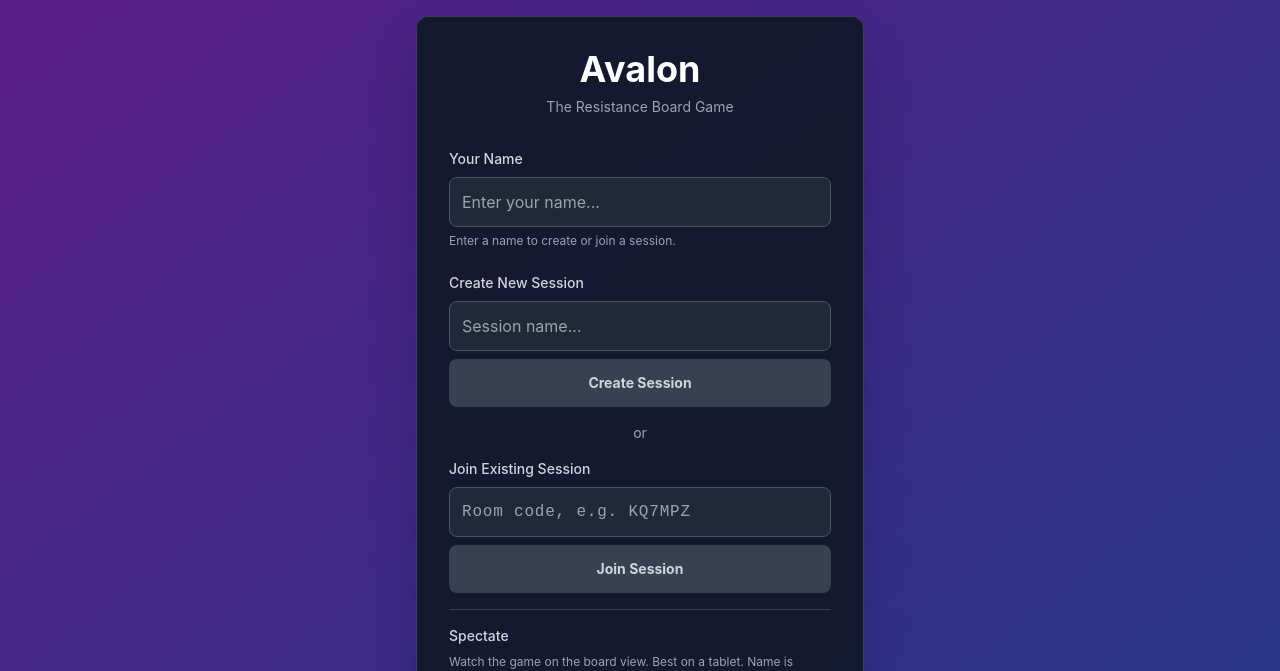
MainMenu › join session flow › displays generic error message when no detail
The image size is (1280, 671).
Step 1. Type "Bob" into the field with placeholder "Enter your name..." → (640, 202), box [449, 177, 831, 227]
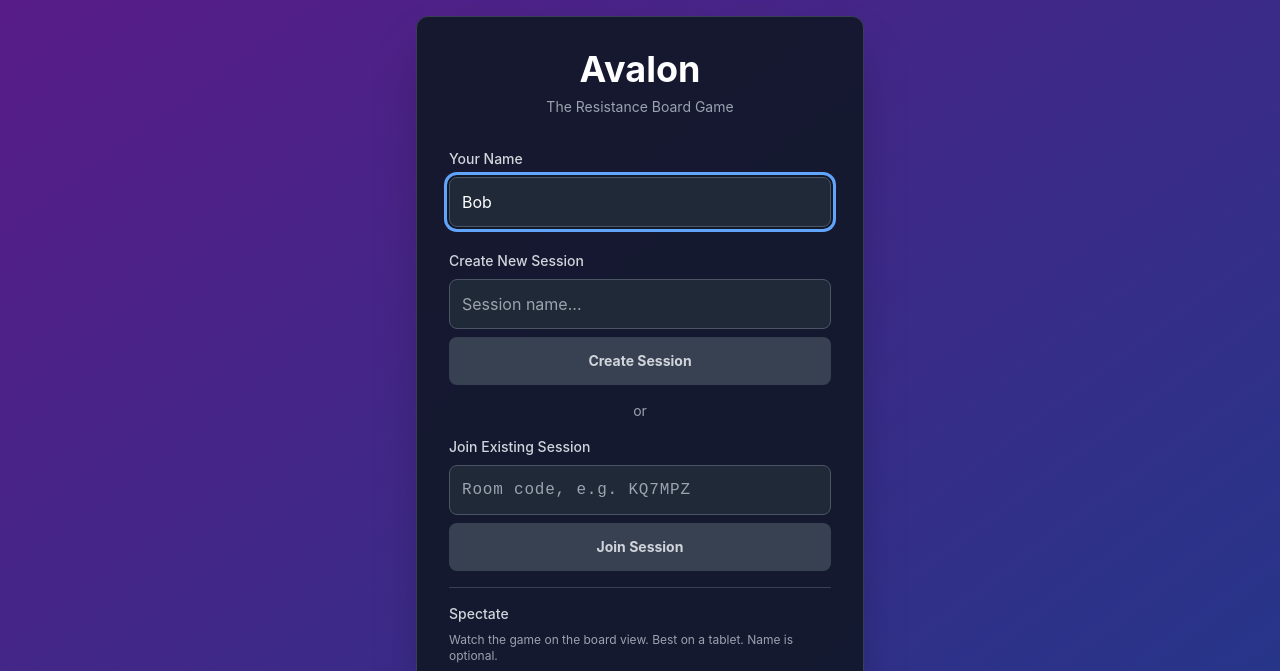
Step 2. Type "some-id" into the field with placeholder "Room code, e.g. KQ7MPZ" → (640, 490), box [449, 465, 831, 515]
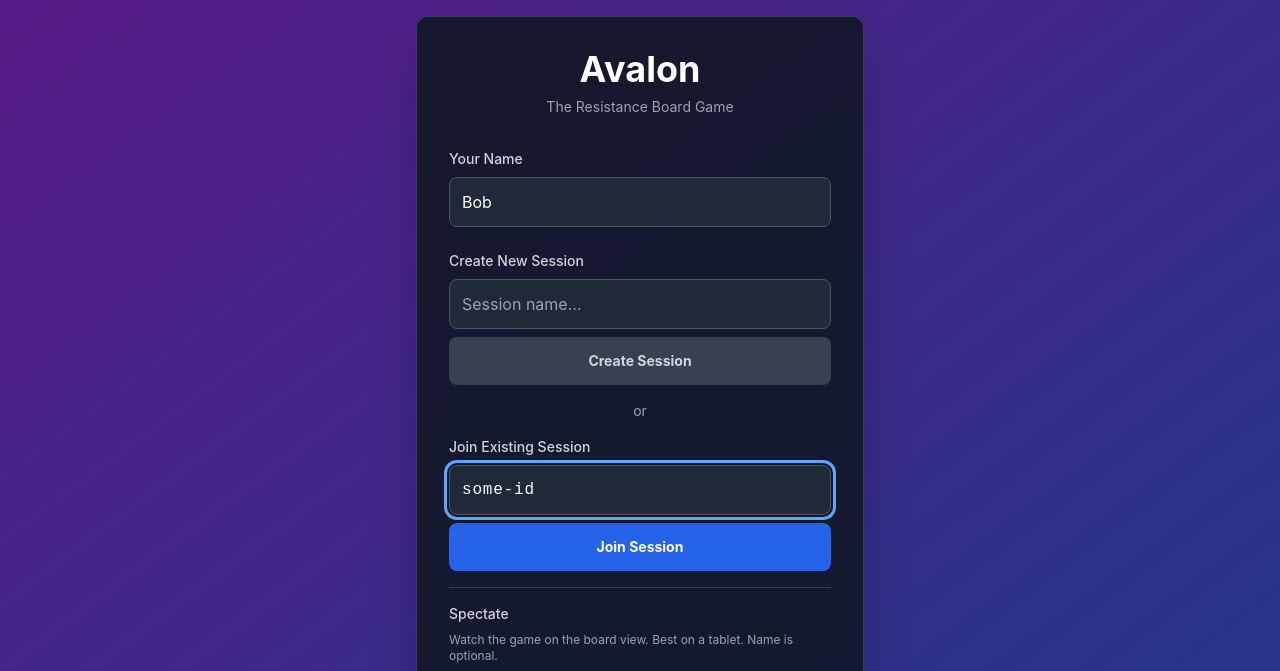
Step 3. Click the button "Join Session" → (640, 547), box [449, 523, 831, 571]
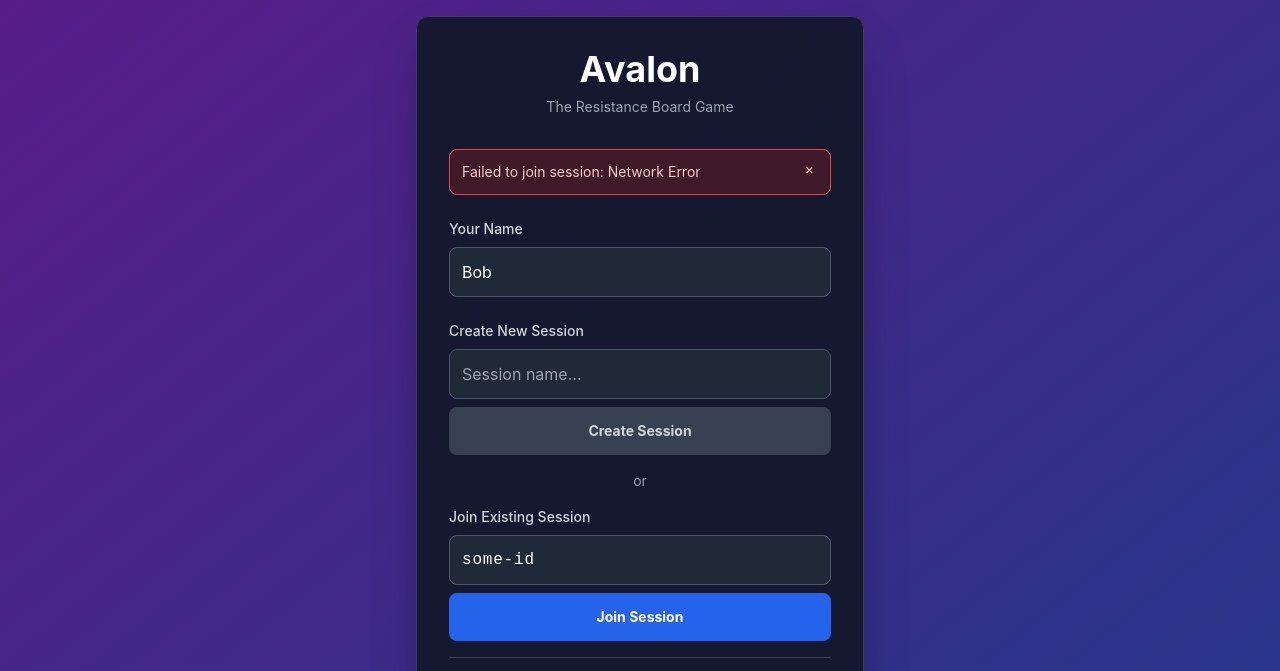
Result: the text "Failed to join session: Network Error" is shown at [462, 163, 701, 180]
